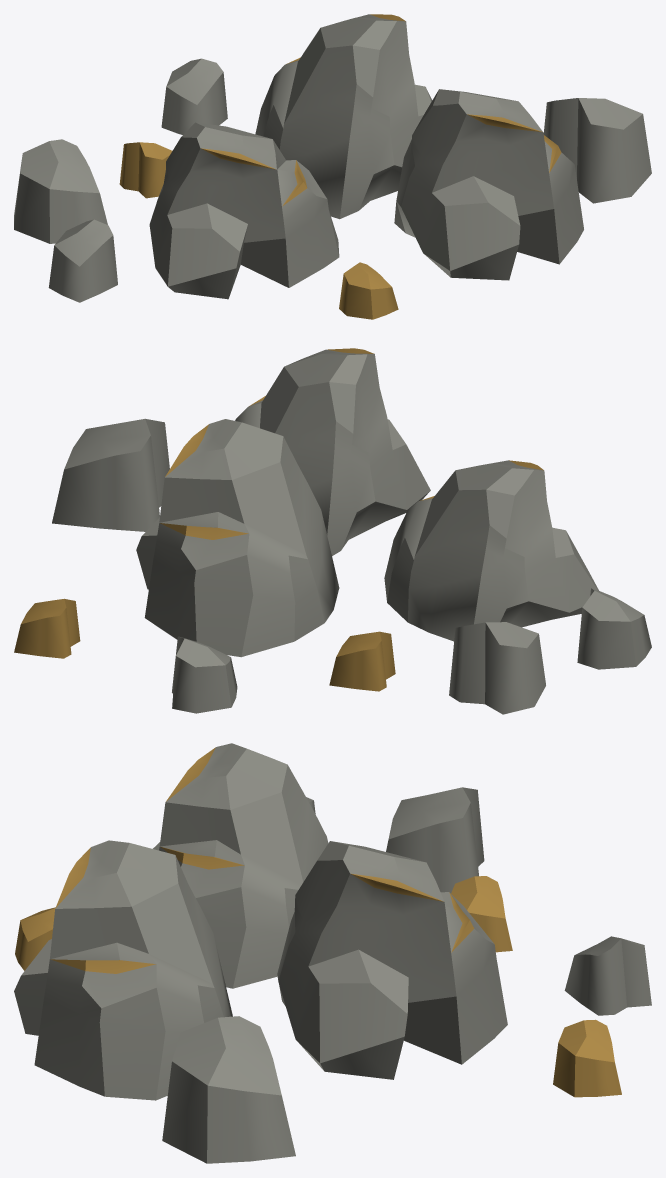
File: Gold Rocks.glb
3 views of the same model, one above another, from view 1: azimuth 30°, elevation 25°; view 2: azimuth 150°, elevation 25°; view 3: azimuth 270°, elevation 25° (orthographic). The views are drawn at different scales.
Parts seen in each view (by area): view 1: Resource_Gold_3; view 2: Resource_Gold_3; view 3: Resource_Gold_3.
Part boxes in pixels (x1,y1,x2,y2): Resource_Gold_3: (14,14,651,319); Resource_Gold_3: (14,348,651,714); Resource_Gold_3: (14,743,651,1163).
Bounding box in the file's own units: 0.5907 × 0.1634 × 0.4837.
